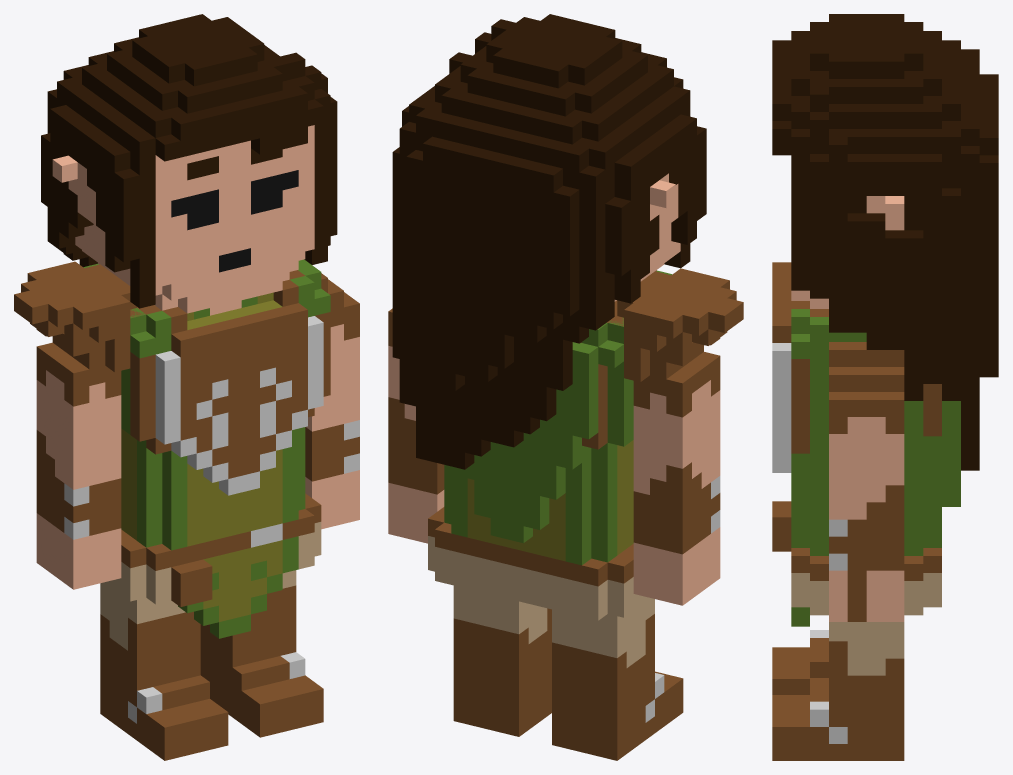
The model's file is ranger.fbx.
The picture shows the model from 3 angles, left to right: view 1: azimuth 30°, elevation 25°; view 2: azimuth 150°, elevation 25°; view 3: azimuth 270°, elevation 25°; orthographic projection. The views are drawn at different scales.
Parts seen in each view (by area): view 1: ranger_complete-10, ranger_complete-4, ranger_complete-0, ranger_complete-2, ranger_complete-5, ranger_complete-6, ranger_complete-7, ranger_complete-8, ranger_complete-1, ranger_complete-9, ranger_complete-3; view 2: ranger_complete-10, ranger_complete-4, ranger_complete-5, ranger_complete-0, ranger_complete-6, ranger_complete-7, ranger_complete-2, ranger_complete-1, ranger_complete-8, ranger_complete-3, ranger_complete-9; view 3: ranger_complete-10, ranger_complete-4, ranger_complete-9, ranger_complete-2, ranger_complete-8, ranger_complete-3, ranger_complete-0.
Part boxes in pixels (x1=…): ranger_complete-10: x1=41, y1=14, x2=337, y2=313; ranger_complete-4: x1=83, y1=259, x2=330, y2=638; ranger_complete-0: x1=100, y1=631, x2=228, y2=760; ranger_complete-2: x1=200, y1=619, x2=323, y2=737; ranger_complete-5: x1=36, y1=446, x2=121, y2=589; ranger_complete-6: x1=36, y1=333, x2=121, y2=473; ranger_complete-7: x1=14, y1=261, x2=144, y2=372; ranger_complete-8: x1=305, y1=403, x2=359, y2=529; ranger_complete-1: x1=100, y1=582, x2=200, y2=657; ranger_complete-9: x1=314, y1=273, x2=359, y2=414; ranger_complete-3: x1=251, y1=570, x2=296, y2=629; ranger_complete-10: x1=392, y1=14, x2=706, y2=469; ranger_complete-4: x1=428, y1=270, x2=671, y2=620; ranger_complete-5: x1=633, y1=459, x2=720, y2=605; ranger_complete-0: x1=552, y1=648, x2=683, y2=760; ranger_complete-6: x1=633, y1=342, x2=720, y2=485; ranger_complete-7: x1=608, y1=268, x2=743, y2=382; ranger_complete-2: x1=453, y1=627, x2=551, y2=736; ranger_complete-1: x1=552, y1=598, x2=654, y2=675; ranger_complete-8: x1=388, y1=414, x2=444, y2=543; ranger_complete-3: x1=453, y1=585, x2=551, y2=651; ranger_complete-9: x1=388, y1=308, x2=415, y2=420; ranger_complete-10: x1=772, y1=14, x2=998, y2=470; ranger_complete-4: x1=772, y1=262, x2=960, y2=626; ranger_complete-9: x1=829, y1=342, x2=904, y2=502; ranger_complete-2: x1=772, y1=675, x2=904, y2=760; ranger_complete-8: x1=829, y1=502, x2=904, y2=621; ranger_complete-3: x1=829, y1=622, x2=904, y2=675; ranger_complete-0: x1=772, y1=630, x2=828, y2=694.
Bounding box in the file's own units: 200 × 400 × 120.
